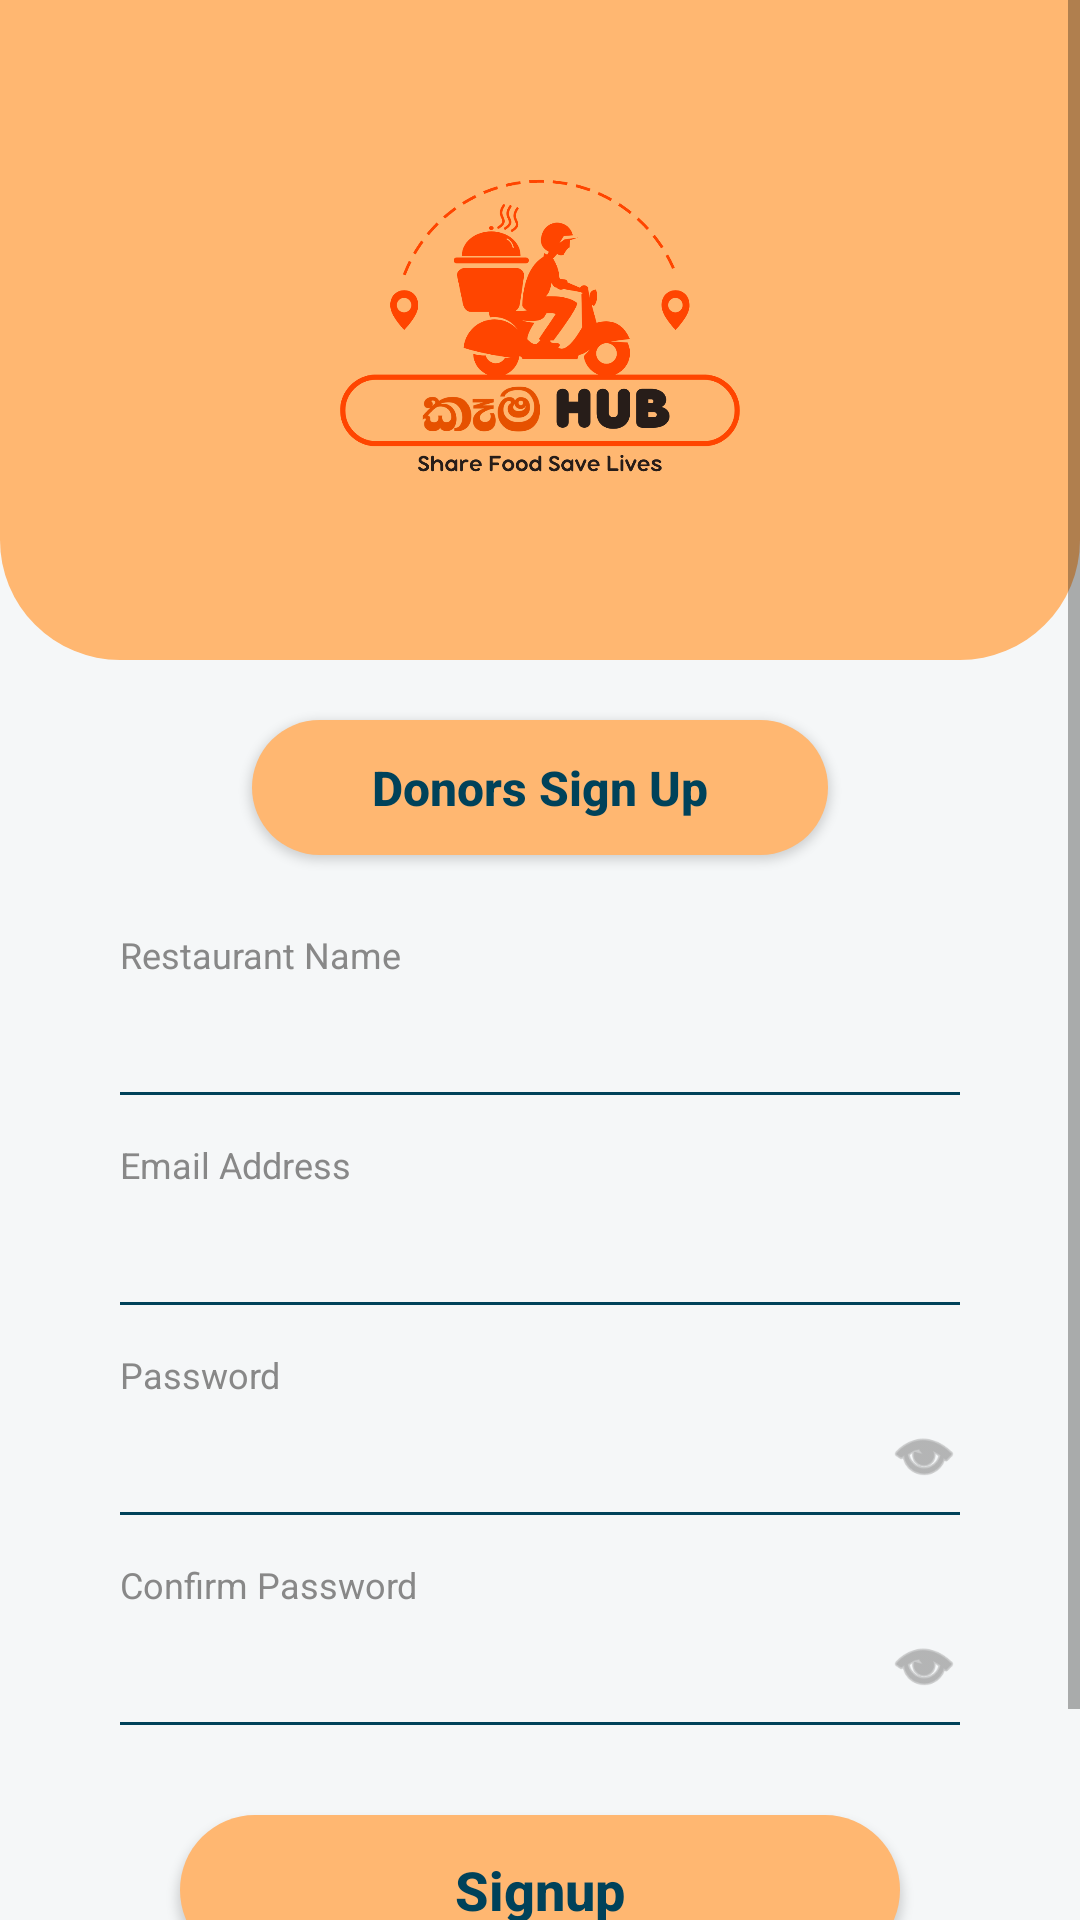

Icon click points for this 1080w x 1920h phone screenshot, format (x,y):
view: (924,1457), (924,1667)
